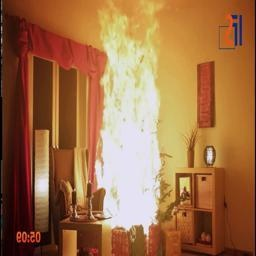fire: (74, 0, 187, 242)
